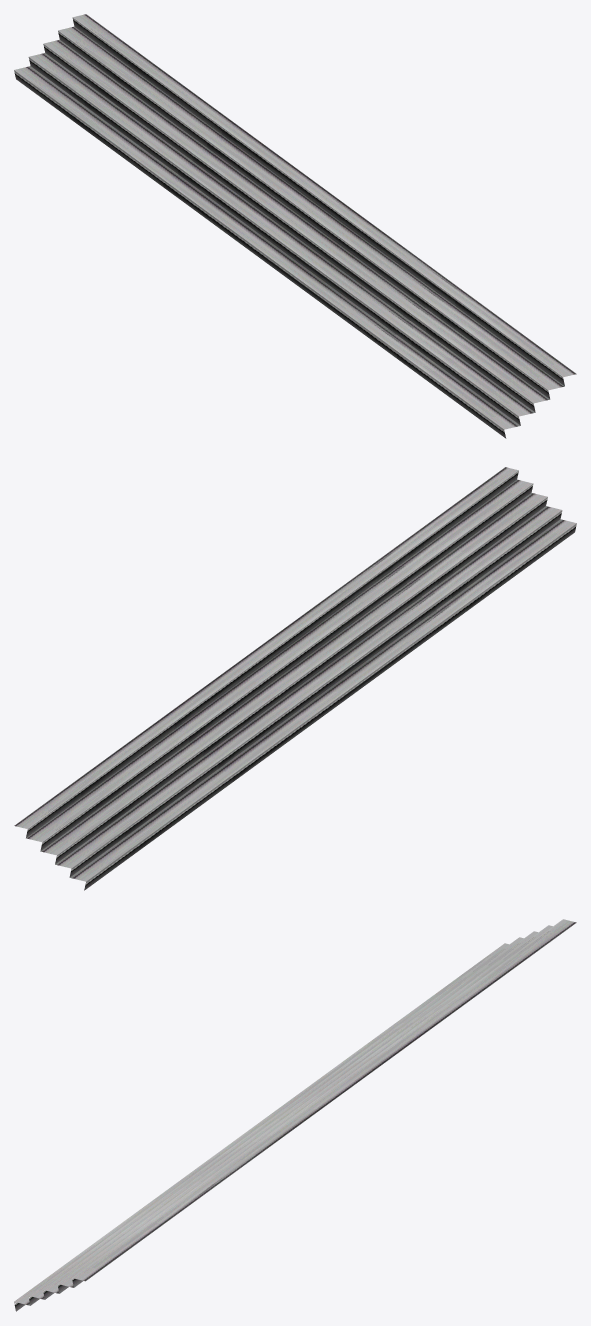
Rendered from TTreppeBreit5Stufen_382.glb.
3 views of the same model, one above another, from view 1: azimuth 30°, elevation 25°; view 2: azimuth 150°, elevation 25°; view 3: azimuth 330°, elevation 25° (orthographic).
Parts seen in each view (by area): view 1: pPlaneShape44; view 2: pPlaneShape44; view 3: pPlaneShape44.
Part boxes in pixels (<box>): pPlaneShape44: <box>14,14,576,438</box>; pPlaneShape44: <box>14,467,576,890</box>; pPlaneShape44: <box>14,919,576,1311</box>.
Bounding box in the file's own units: 0.2578 × 0.1622 × 3.
1 material, 1 textured.
